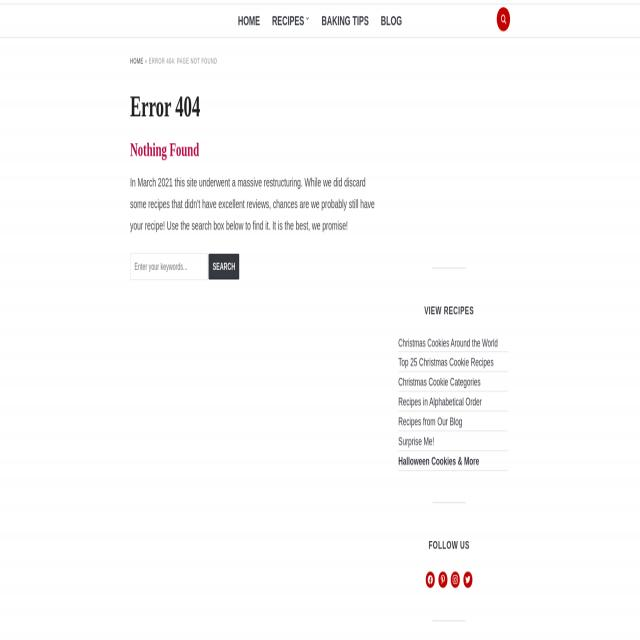button: (316, 4, 374, 37), (267, 4, 315, 37), (233, 4, 265, 37), (376, 4, 407, 37), (209, 253, 239, 280), (497, 6, 511, 33), (438, 572, 448, 588), (451, 572, 460, 588), (463, 572, 472, 588), (426, 572, 434, 588)
field: (130, 253, 208, 280)
